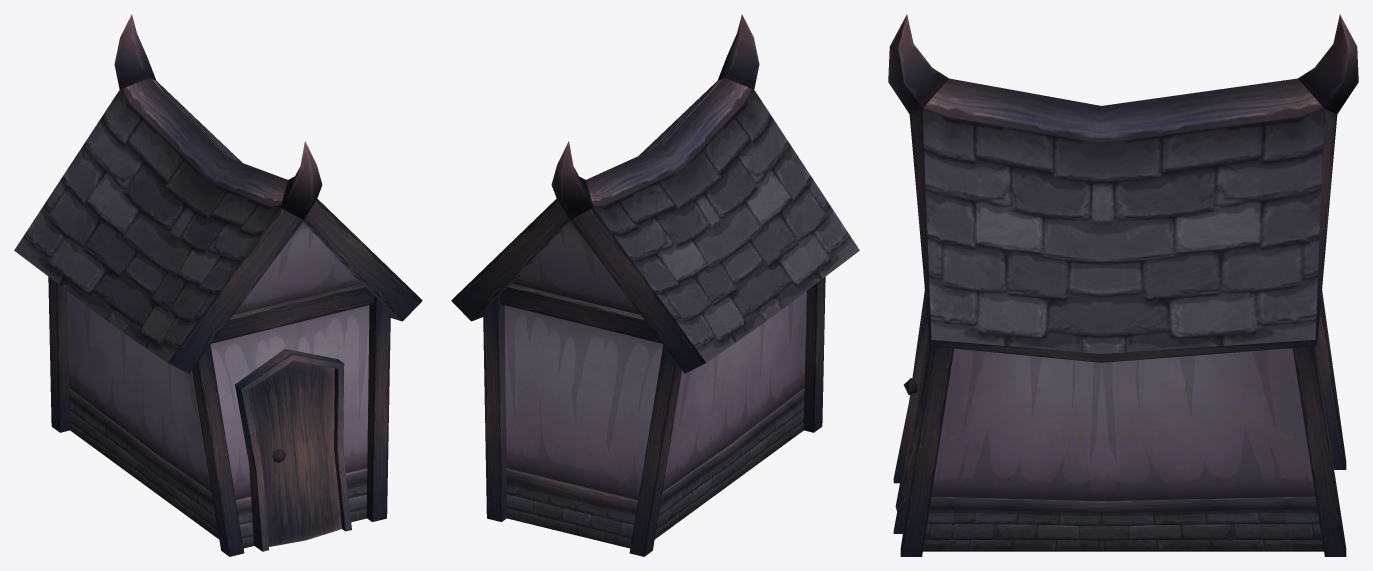
File: Hut_A.fbx
3 renders of one model, left to right at view 1: azimuth 30°, elevation 25°; view 2: azimuth 150°, elevation 25°; view 3: azimuth 270°, elevation 25°, orthographic. The views are drawn at different scales.
Visible parts, largest first — view 1: Hut_A; view 2: Hut_A; view 3: Hut_A.
Boxes of the visible parts, x1,y1,x2,y2 form: Hut_A: [14, 14, 422, 556]; Hut_A: [451, 14, 859, 556]; Hut_A: [888, 14, 1358, 556].
Bounding box in the file's own units: 123 × 183 × 158.
1 material, 1 textured.
